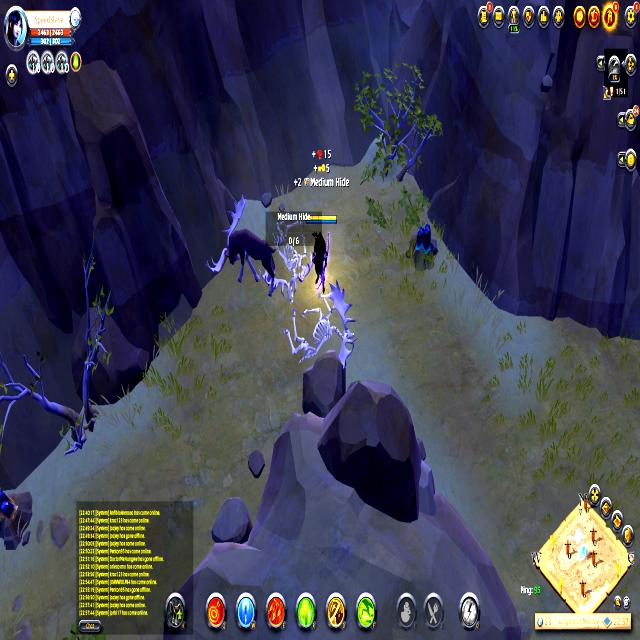ore: (202, 190, 284, 302)
player: (0, 479, 37, 558), (404, 216, 444, 278)
red: (306, 208, 338, 290)
